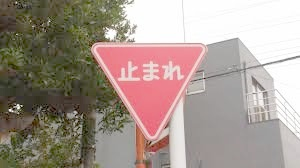Regulatory_sign_triangle: (88, 39, 212, 138)
